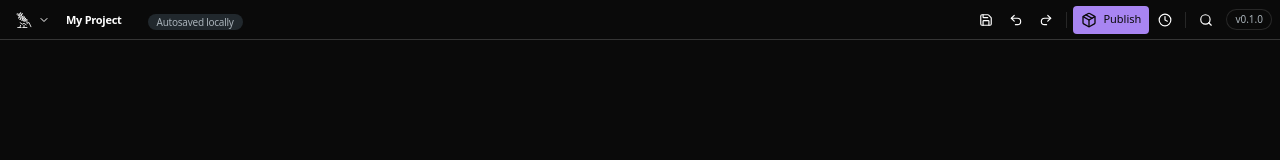
Test: Navbar inline rename (characterization) › Empty string Enter does not rename — empty trim short-circuits
Click the button "My Project" at (102, 20), box [62,10,142,30]
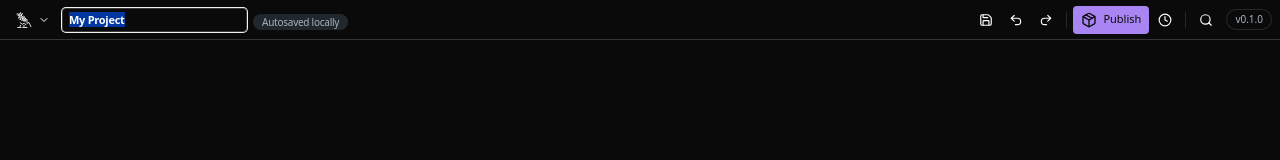
Clear the field at (154, 20), box [62,8,247,32]
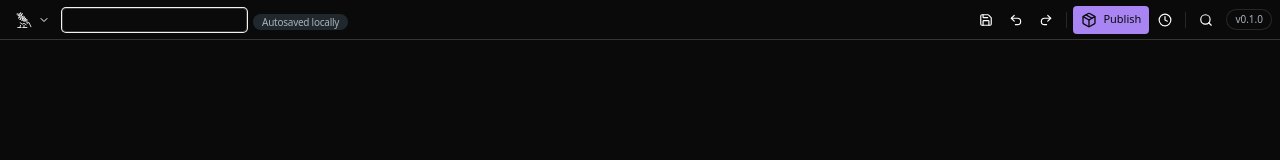
Press Enter in the field, box [62,8,247,32]
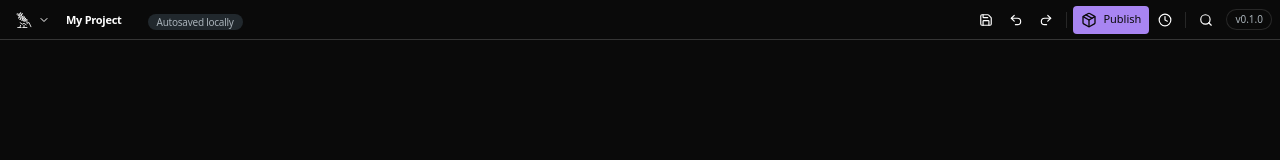
Now the text "My Project" is shown, box [66,12,122,28]
